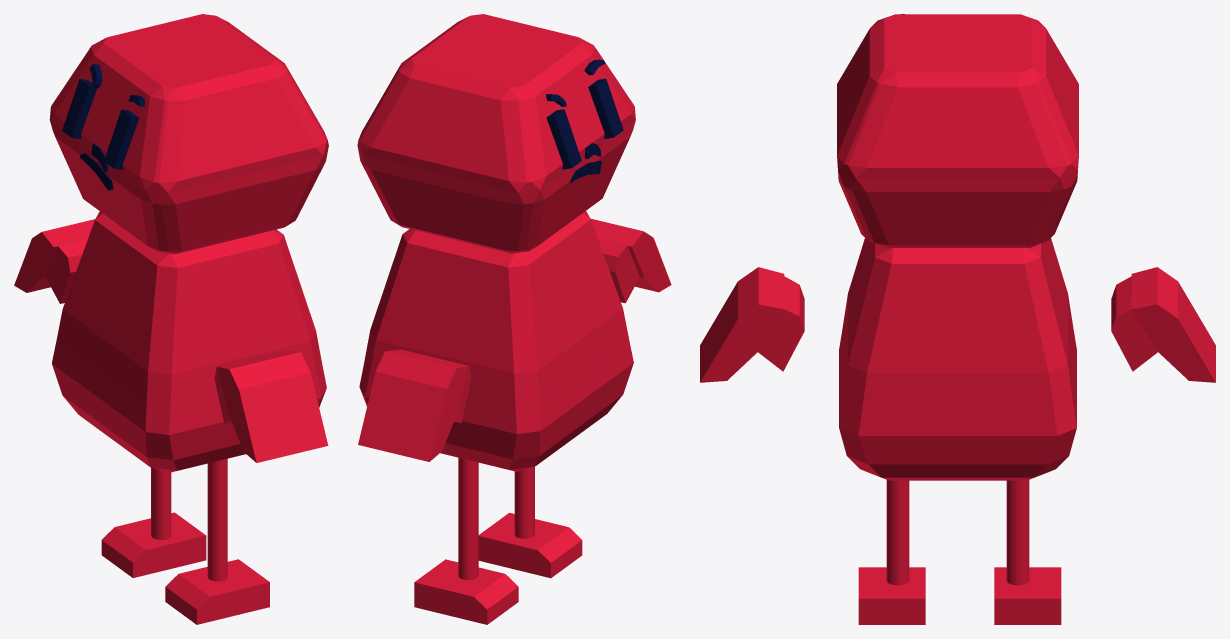
Rendered from player_red.gltf.
3 views of the same model, side by side, from view 1: azimuth 30°, elevation 25°; view 2: azimuth 150°, elevation 25°; view 3: azimuth 270°, elevation 25° (orthographic). The views are drawn at different scales.
Parts seen in each view (by area): view 1: head, body, hand right, foot right, foot left, hand left, leg right, leg left, Cube, Cube.001; view 2: head, body, hand left, foot left, foot right, hand right, leg left, leg right, Cube, Cube.001; view 3: body, head, hand right, hand left, foot left, foot right, leg left, leg right.
Part boxes in pixels (x1,y1,x2,y2): head: (49,14,328,254); body: (52,211,326,472); hand right: (214,350,328,462); foot right: (165,559,269,624); foot left: (101,512,206,577); hand left: (14,219,94,303); leg right: (207,458,227,581); leg left: (151,467,171,539); Cube: (104,109,139,169); Cube.001: (62,78,96,139); head: (357,14,635,253); body: (359,211,633,471); hand left: (358,349,471,461); foot left: (414,559,518,624); foot right: (478,512,582,578); hand right: (591,218,671,303); leg left: (458,457,478,579); leg right: (514,466,534,538); Cube: (588,78,623,138); Cube.001: (546,109,581,169); body: (839,238,1076,480); head: (837,14,1078,247); hand right: (700,267,804,382); hand left: (1111,267,1215,382); foot left: (994,567,1061,624); foot right: (858,567,925,624); leg left: (1006,480,1029,585); leg right: (886,480,909,585).
Size of the model in its own units: 1.82 by 4.76 by 3.95.
